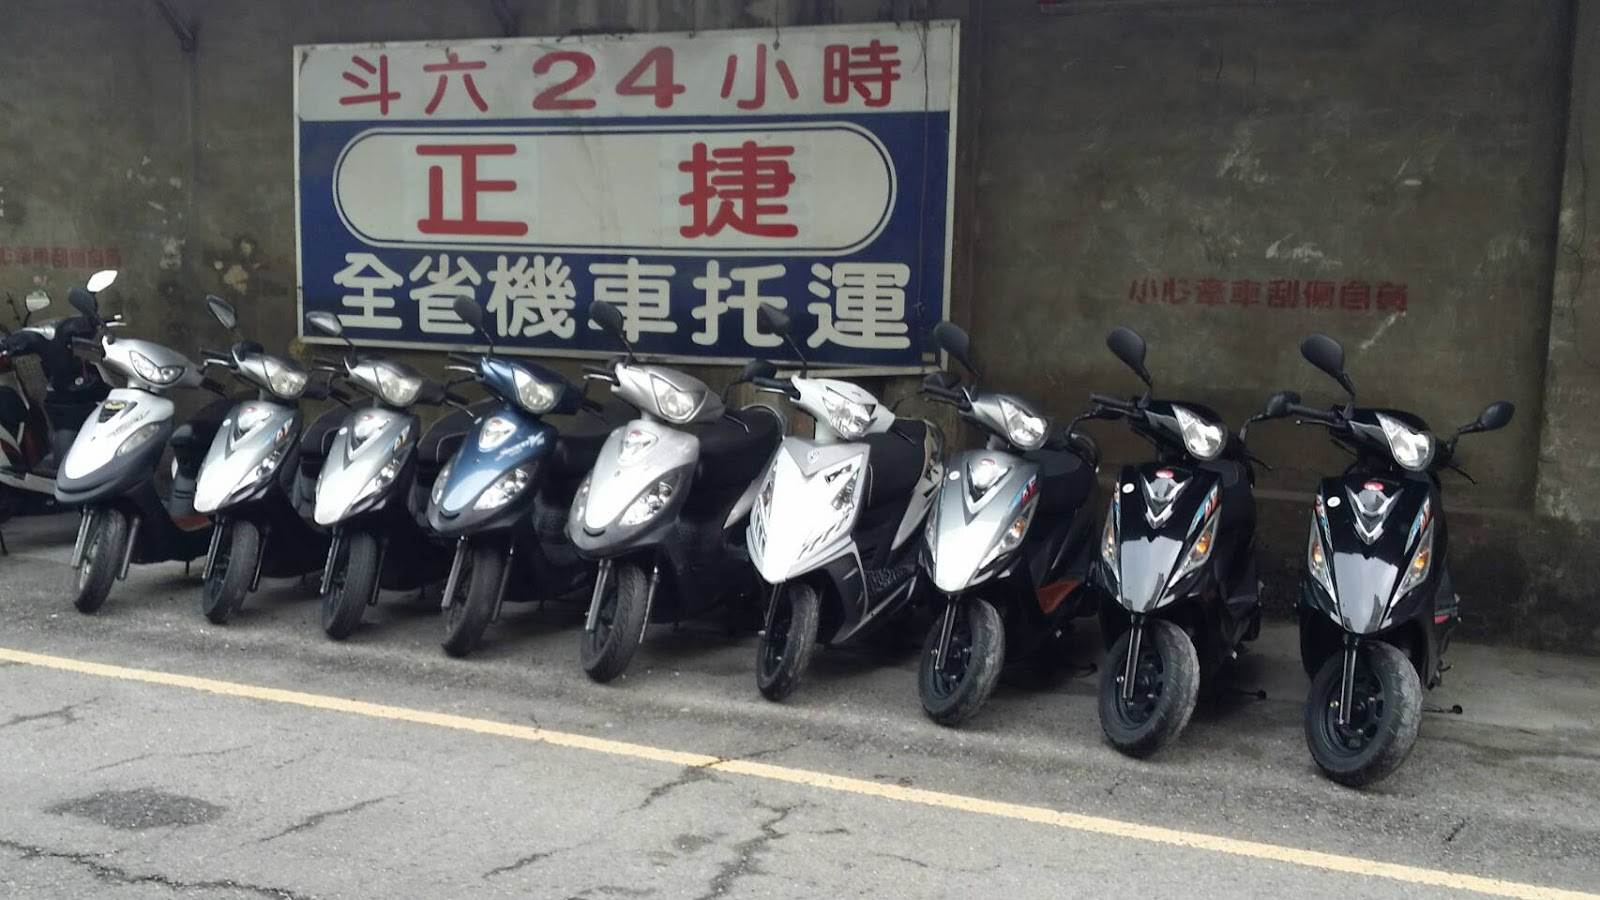motorcycle: (1279, 320, 1519, 792), (1081, 320, 1303, 771), (731, 292, 962, 699), (907, 309, 1103, 723), (564, 292, 776, 675), (51, 252, 221, 616), (302, 292, 469, 637), (433, 295, 577, 656), (188, 282, 343, 616)
